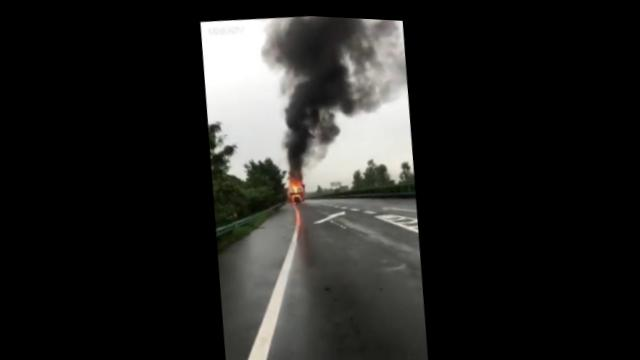fire: (289, 175, 304, 188)
